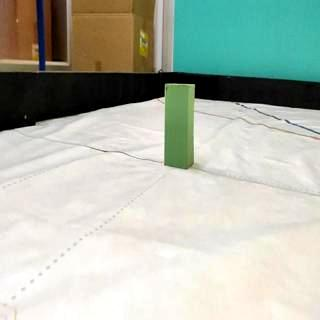greenbox: (163, 82, 195, 168)
